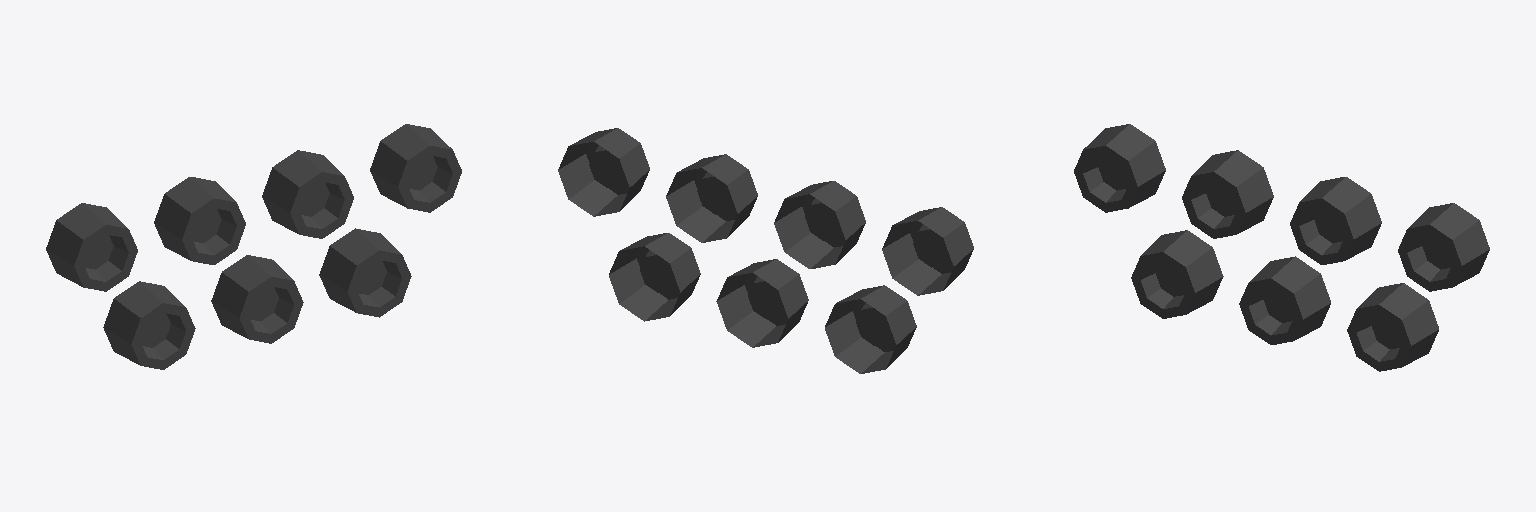
File: Details_Dots.obj
3 renders of one model, left to right at view 1: azimuth 30°, elevation 25°; view 2: azimuth 150°, elevation 25°; view 3: azimuth 330°, elevation 25°, orthographic.
Parts seen in each view (by area): view 1: Details_Dots_Cylinder.022; view 2: Details_Dots_Cylinder.022; view 3: Details_Dots_Cylinder.022.
Boxes of the visible parts, <box> form: Details_Dots_Cylinder.022: <box>46,124,461,369</box>; Details_Dots_Cylinder.022: <box>558,128,973,373</box>; Details_Dots_Cylinder.022: <box>1074,124,1489,371</box>.
Size of the model in its own units: 0.5513 by 0.2231 by 0.0588.